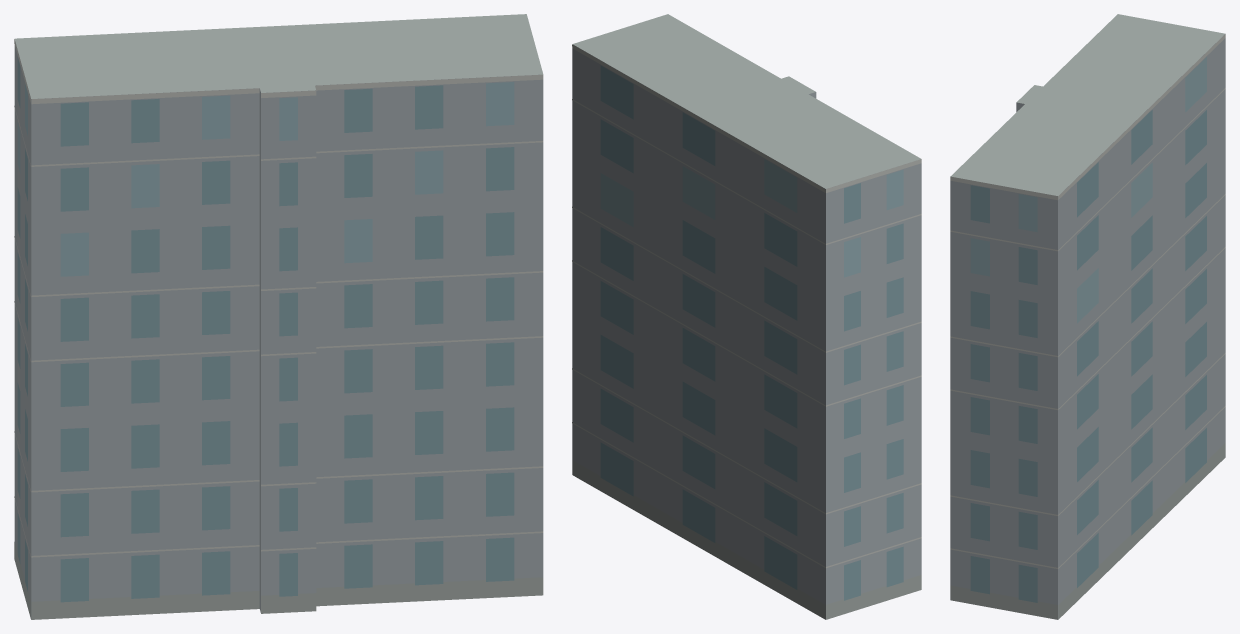
File: survey-upis-32670351.glb
3 renders of one model, left to right at view 1: azimuth 30°, elevation 25°; view 2: azimuth 150°, elevation 25°; view 3: azimuth 270°, elevation 25°, orthographic. The views are drawn at different scales.
Parts seen in each view (by area): view 1: survey-upis-32670351.tmp; view 2: survey-upis-32670351.tmp; view 3: survey-upis-32670351.tmp.
Part boxes in pixels (left/top/right/bottom): survey-upis-32670351.tmp: left=14, top=14, right=543, bottom=619; survey-upis-32670351.tmp: left=572, top=14, right=921, bottom=619; survey-upis-32670351.tmp: left=950, top=14, right=1225, bottom=619.
Bounding box in the file's own units: 22.89 × 24.8 × 14.62.
